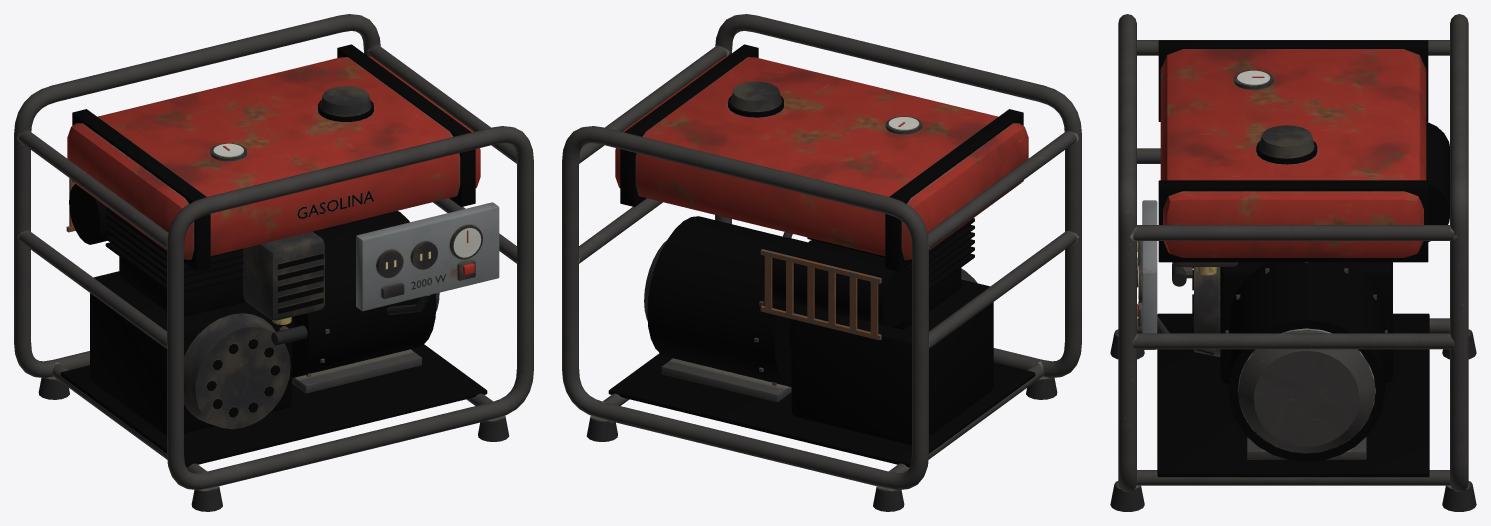
The model's file is gerador.glb.
3 views of the same model, side by side, from view 1: azimuth 30°, elevation 25°; view 2: azimuth 150°, elevation 25°; view 3: azimuth 270°, elevation 25° (orthographic). The views are drawn at different scales.
Parts seen in each view (by area): view 1: estrutura, tanque, motor, painel; view 2: estrutura, motor, tanque; view 3: tanque, estrutura, motor, painel.
Boxes of the visible parts, x1=… form: estrutura: x1=14, y1=14, x2=533, y2=511; tanque: x1=67, y1=44, x2=480, y2=271; motor: x1=66, y1=178, x2=439, y2=435; painel: x1=356, y1=202, x2=499, y2=314; estrutura: x1=562, y1=14, x2=1081, y2=511; motor: x1=644, y1=216, x2=993, y2=445; tanque: x1=615, y1=44, x2=1028, y2=271; tanque: x1=1158, y1=40, x2=1428, y2=262; estrutura: x1=1110, y1=14, x2=1476, y2=511; motor: x1=1172, y1=122, x2=1449, y2=461; painel: x1=1137, y1=200, x2=1215, y2=355.
Bounding box in the file's own units: 0.688 × 0.554 × 0.552.
Materials: 2 (2 with a texture image).
